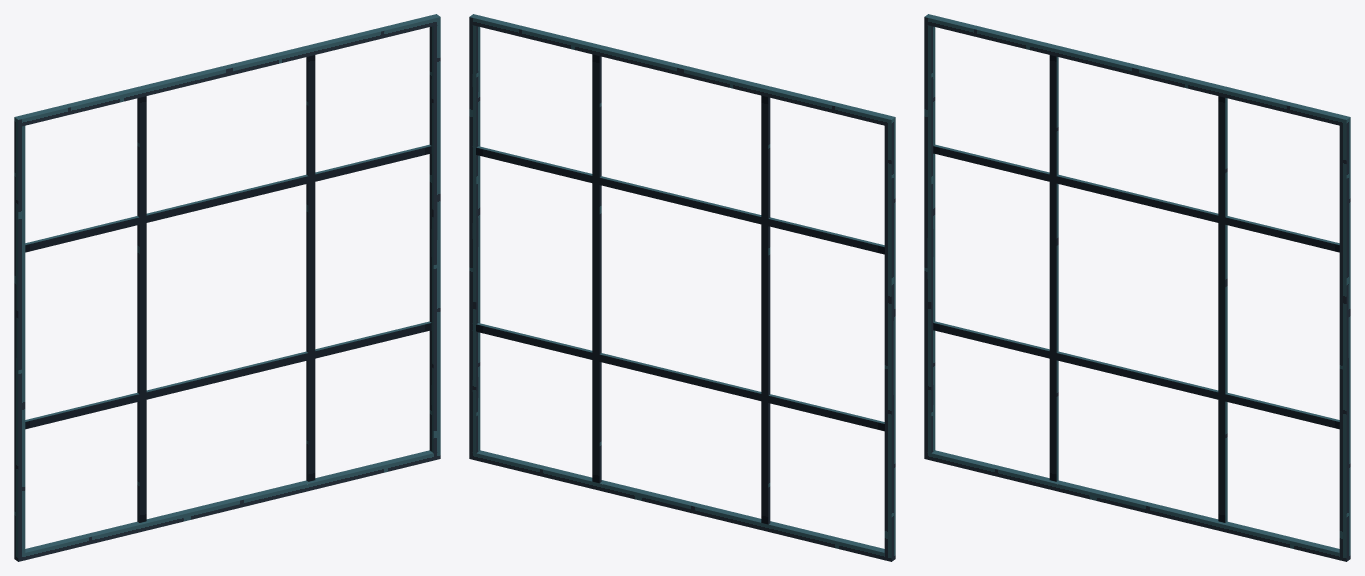
File: neon_frame_cao.fezao.glb
3 renders of one model, left to right at view 1: azimuth 30°, elevation 25°; view 2: azimuth 150°, elevation 25°; view 3: azimuth 330°, elevation 25°, orthographic.
Visible parts, largest first — view 1: NEON_FRAME_CAO; view 2: NEON_FRAME_CAO; view 3: NEON_FRAME_CAO.
Part boxes in pixels (x1,y1,x2,y2): NEON_FRAME_CAO: (14,14,440,561); NEON_FRAME_CAO: (469,14,895,561); NEON_FRAME_CAO: (924,14,1350,561).
Bounding box in the file's own units: 7.5 × 7.5 × 0.125.
1 material, 1 textured.
